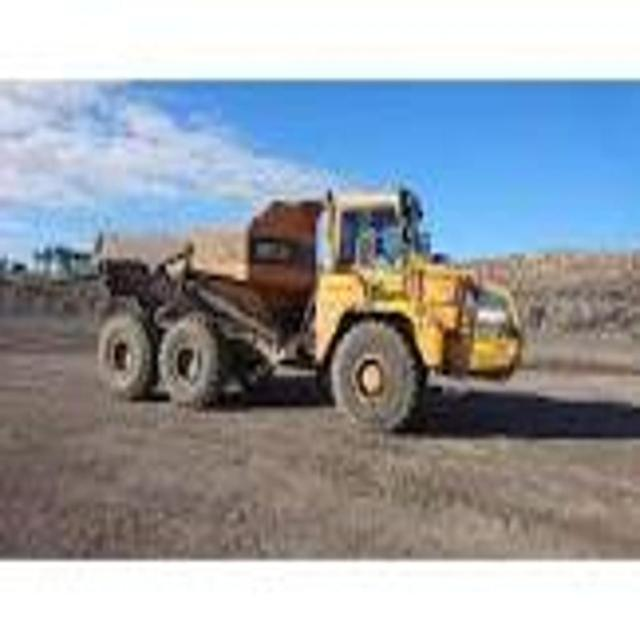dump_truck: (90, 154, 478, 448)
